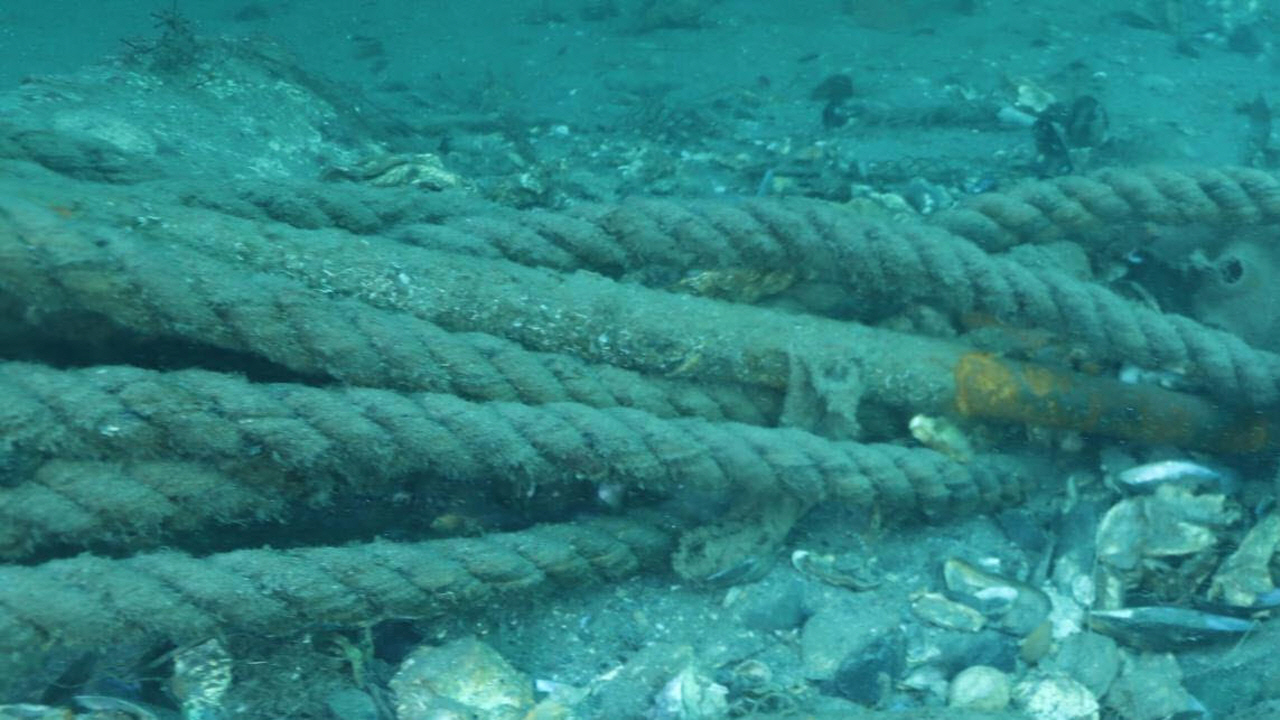bundle of ropes: (0, 159, 1280, 655)
